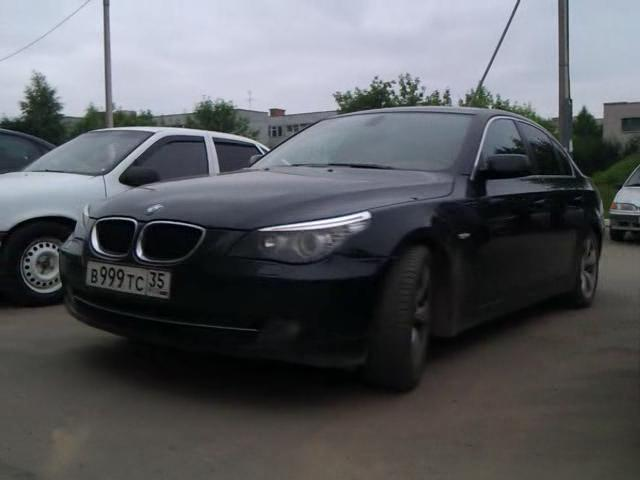license-plateSW: (87, 259, 174, 301)
